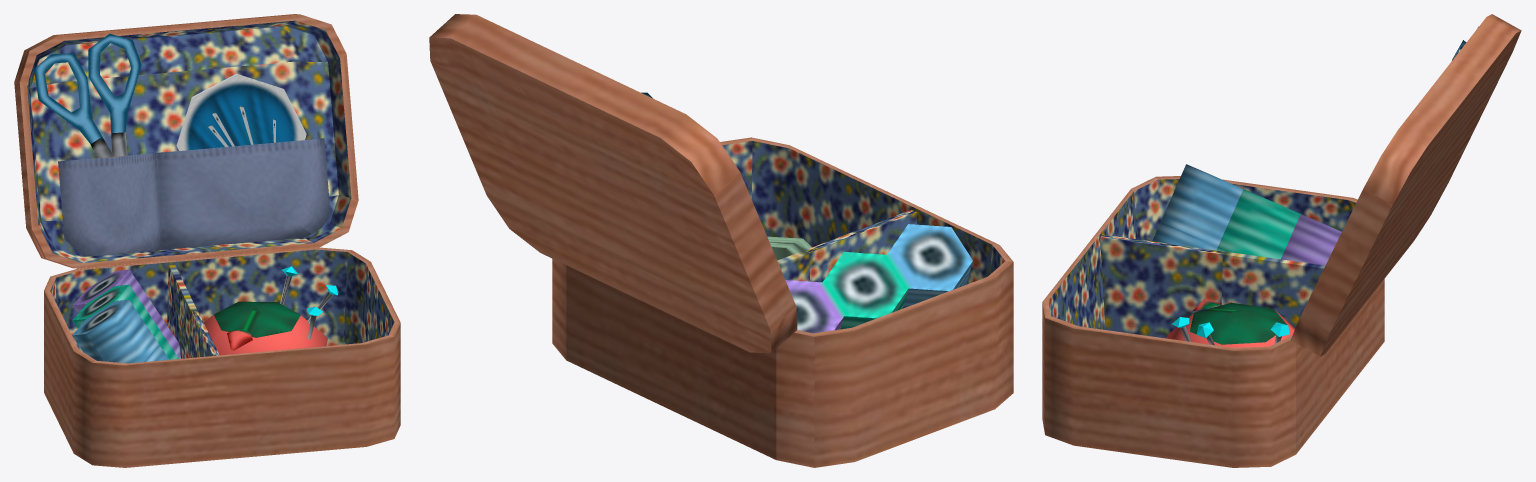
The model's file is Caixa de costura.fbx.
3 renders of one model, left to right at view 1: azimuth 30°, elevation 25°; view 2: azimuth 150°, elevation 25°; view 3: azimuth 270°, elevation 25°, orthographic. The views are drawn at different scales.
Visible parts, largest first — view 1: Caixinha de Costura; view 2: Caixinha de Costura; view 3: Caixinha de Costura.
Boxes of the visible parts, box(x1,y1,x2,y2) form: Caixinha de Costura: box(14, 14, 400, 467); Caixinha de Costura: box(429, 14, 1013, 467); Caixinha de Costura: box(1042, 14, 1521, 467).
Bounding box in the file's own units: 263 × 211 × 270.
